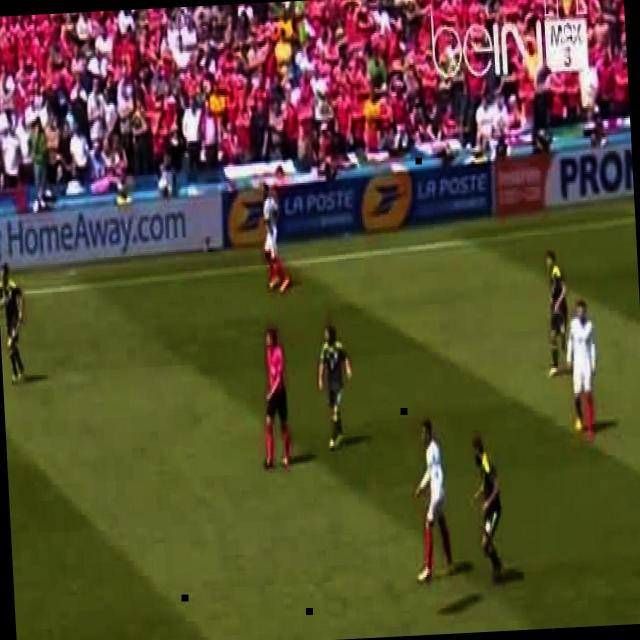player-white: (407, 418, 455, 584), (466, 439, 505, 584), (314, 325, 356, 451), (564, 298, 600, 440), (256, 329, 292, 468), (540, 251, 572, 380), (260, 182, 290, 294), (0, 262, 27, 382)
